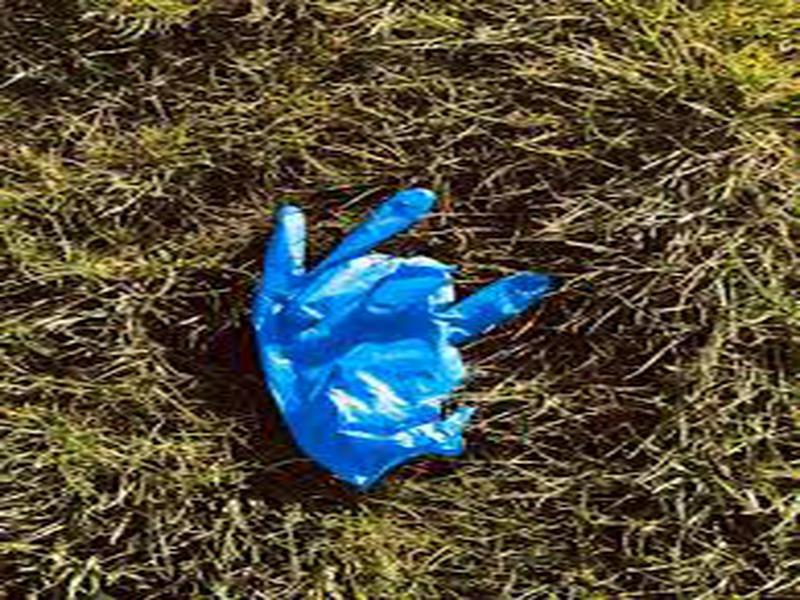gloves: (226, 172, 555, 493)
